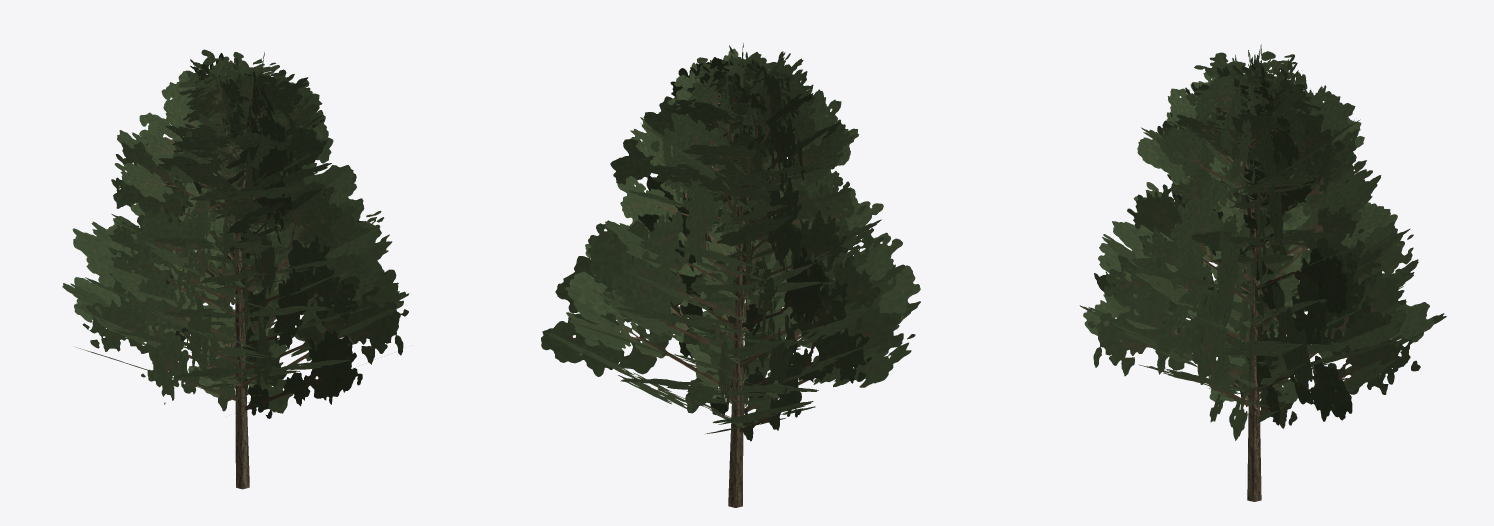
Rendered from tree-04.glb.
The picture shows the model from 3 angles, left to right: view 1: azimuth 30°, elevation 25°; view 2: azimuth 150°, elevation 25°; view 3: azimuth 270°, elevation 25°; orthographic projection. The views are drawn at different scales.
Parts seen in each view (by area): view 1: Tilia_europaea_mature_01_LoD2A_summer_obj0_trunk; view 2: Tilia_europaea_mature_01_LoD2A_summer_obj0_trunk; view 3: Tilia_europaea_mature_01_LoD2A_summer_obj0_trunk.
Boxes of the visible parts, bbox=[...] form: Tilia_europaea_mature_01_LoD2A_summer_obj0_trunk: bbox=[62, 49, 409, 489]; Tilia_europaea_mature_01_LoD2A_summer_obj0_trunk: bbox=[541, 43, 920, 507]; Tilia_europaea_mature_01_LoD2A_summer_obj0_trunk: bbox=[1079, 44, 1446, 501].
Size of the model in its own units: 17.06 by 19.83 by 17.8.
Materials: 1 (1 with a texture image).
